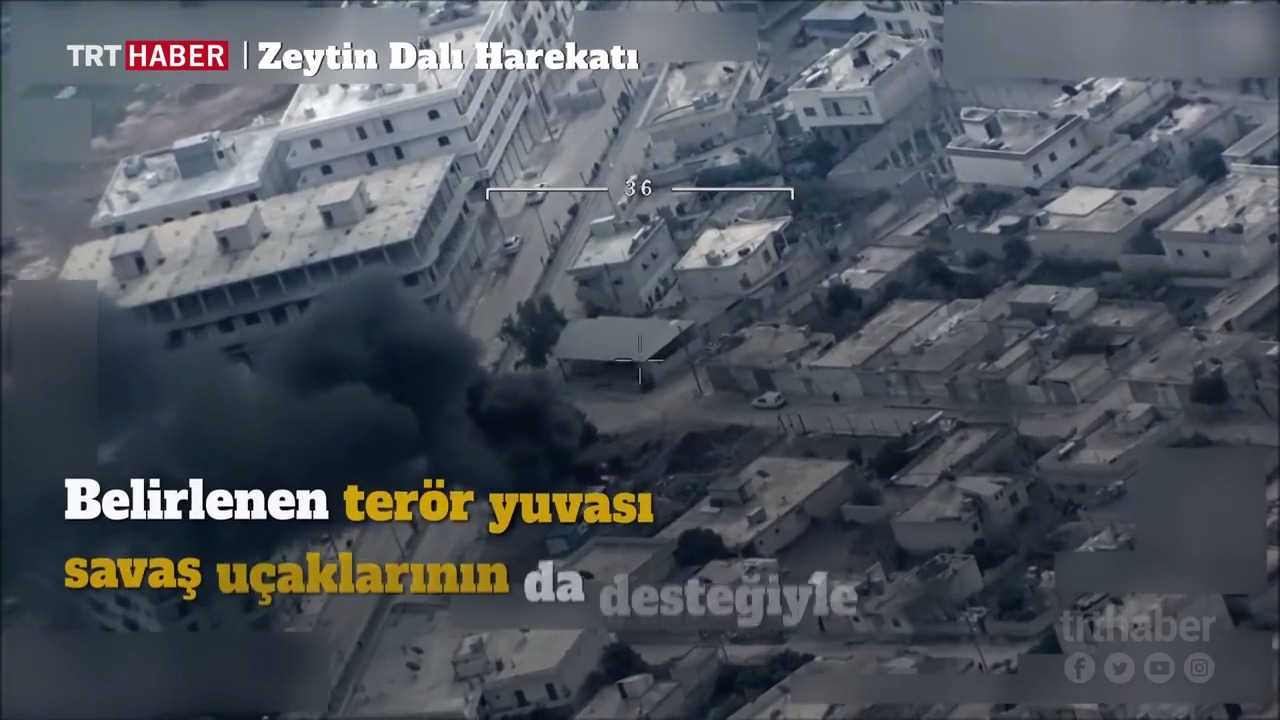bina: (48, 136, 492, 409), (887, 451, 1050, 566), (675, 204, 802, 324)
